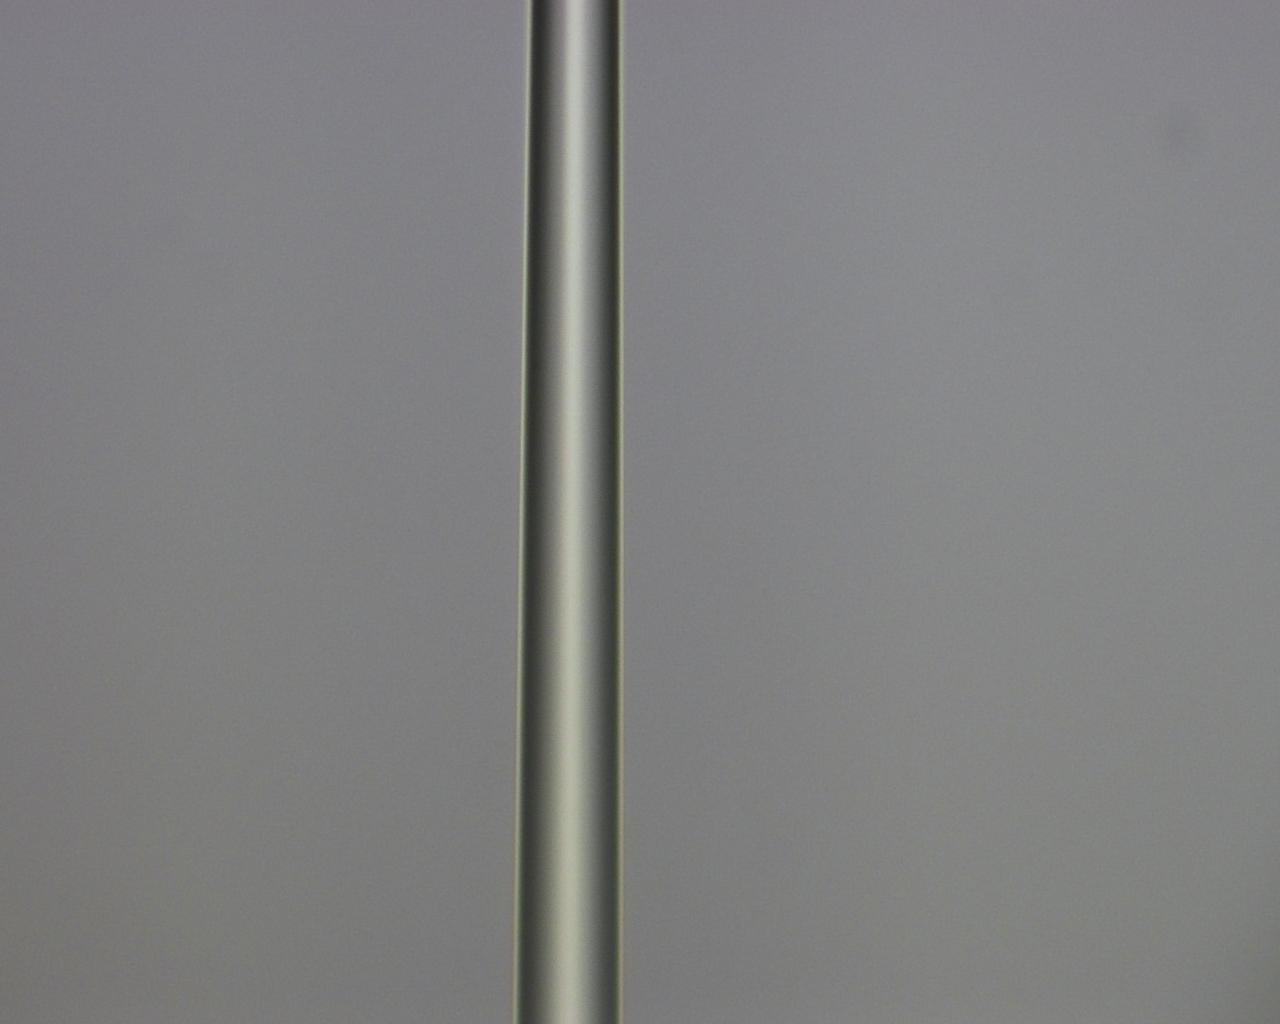fiber: (969, 0, 1225, 552), (503, 0, 536, 552)
